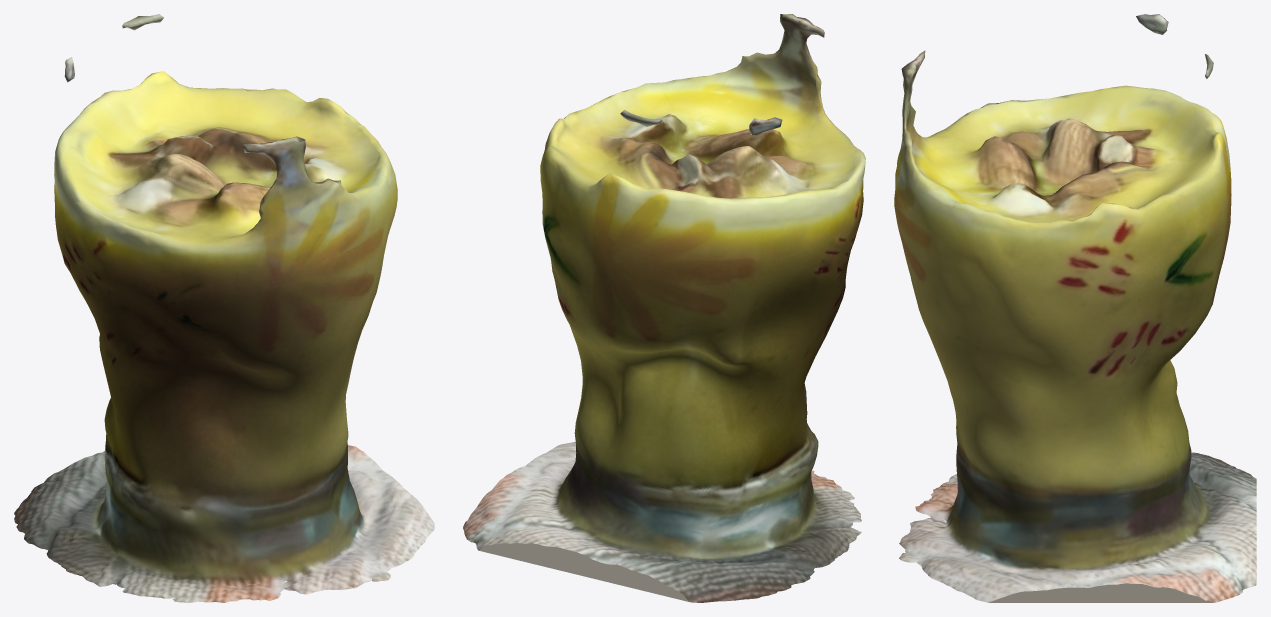
3 views of the same model, side by side, from view 1: azimuth 30°, elevation 25°; view 2: azimuth 150°, elevation 25°; view 3: azimuth 270°, elevation 25° (orthographic). The views are drawn at different scales.
Visible parts, largest first — view 1: 3DModel; view 2: 3DModel; view 3: 3DModel.
Boxes of the visible parts, x1,y1,x2,y2 form: 3DModel: (14, 14, 434, 602); 3DModel: (463, 14, 865, 602); 3DModel: (894, 14, 1256, 602).
Size of the model in its own units: 0.312 by 0.4302 by 0.3096.
1 material, 1 textured.
